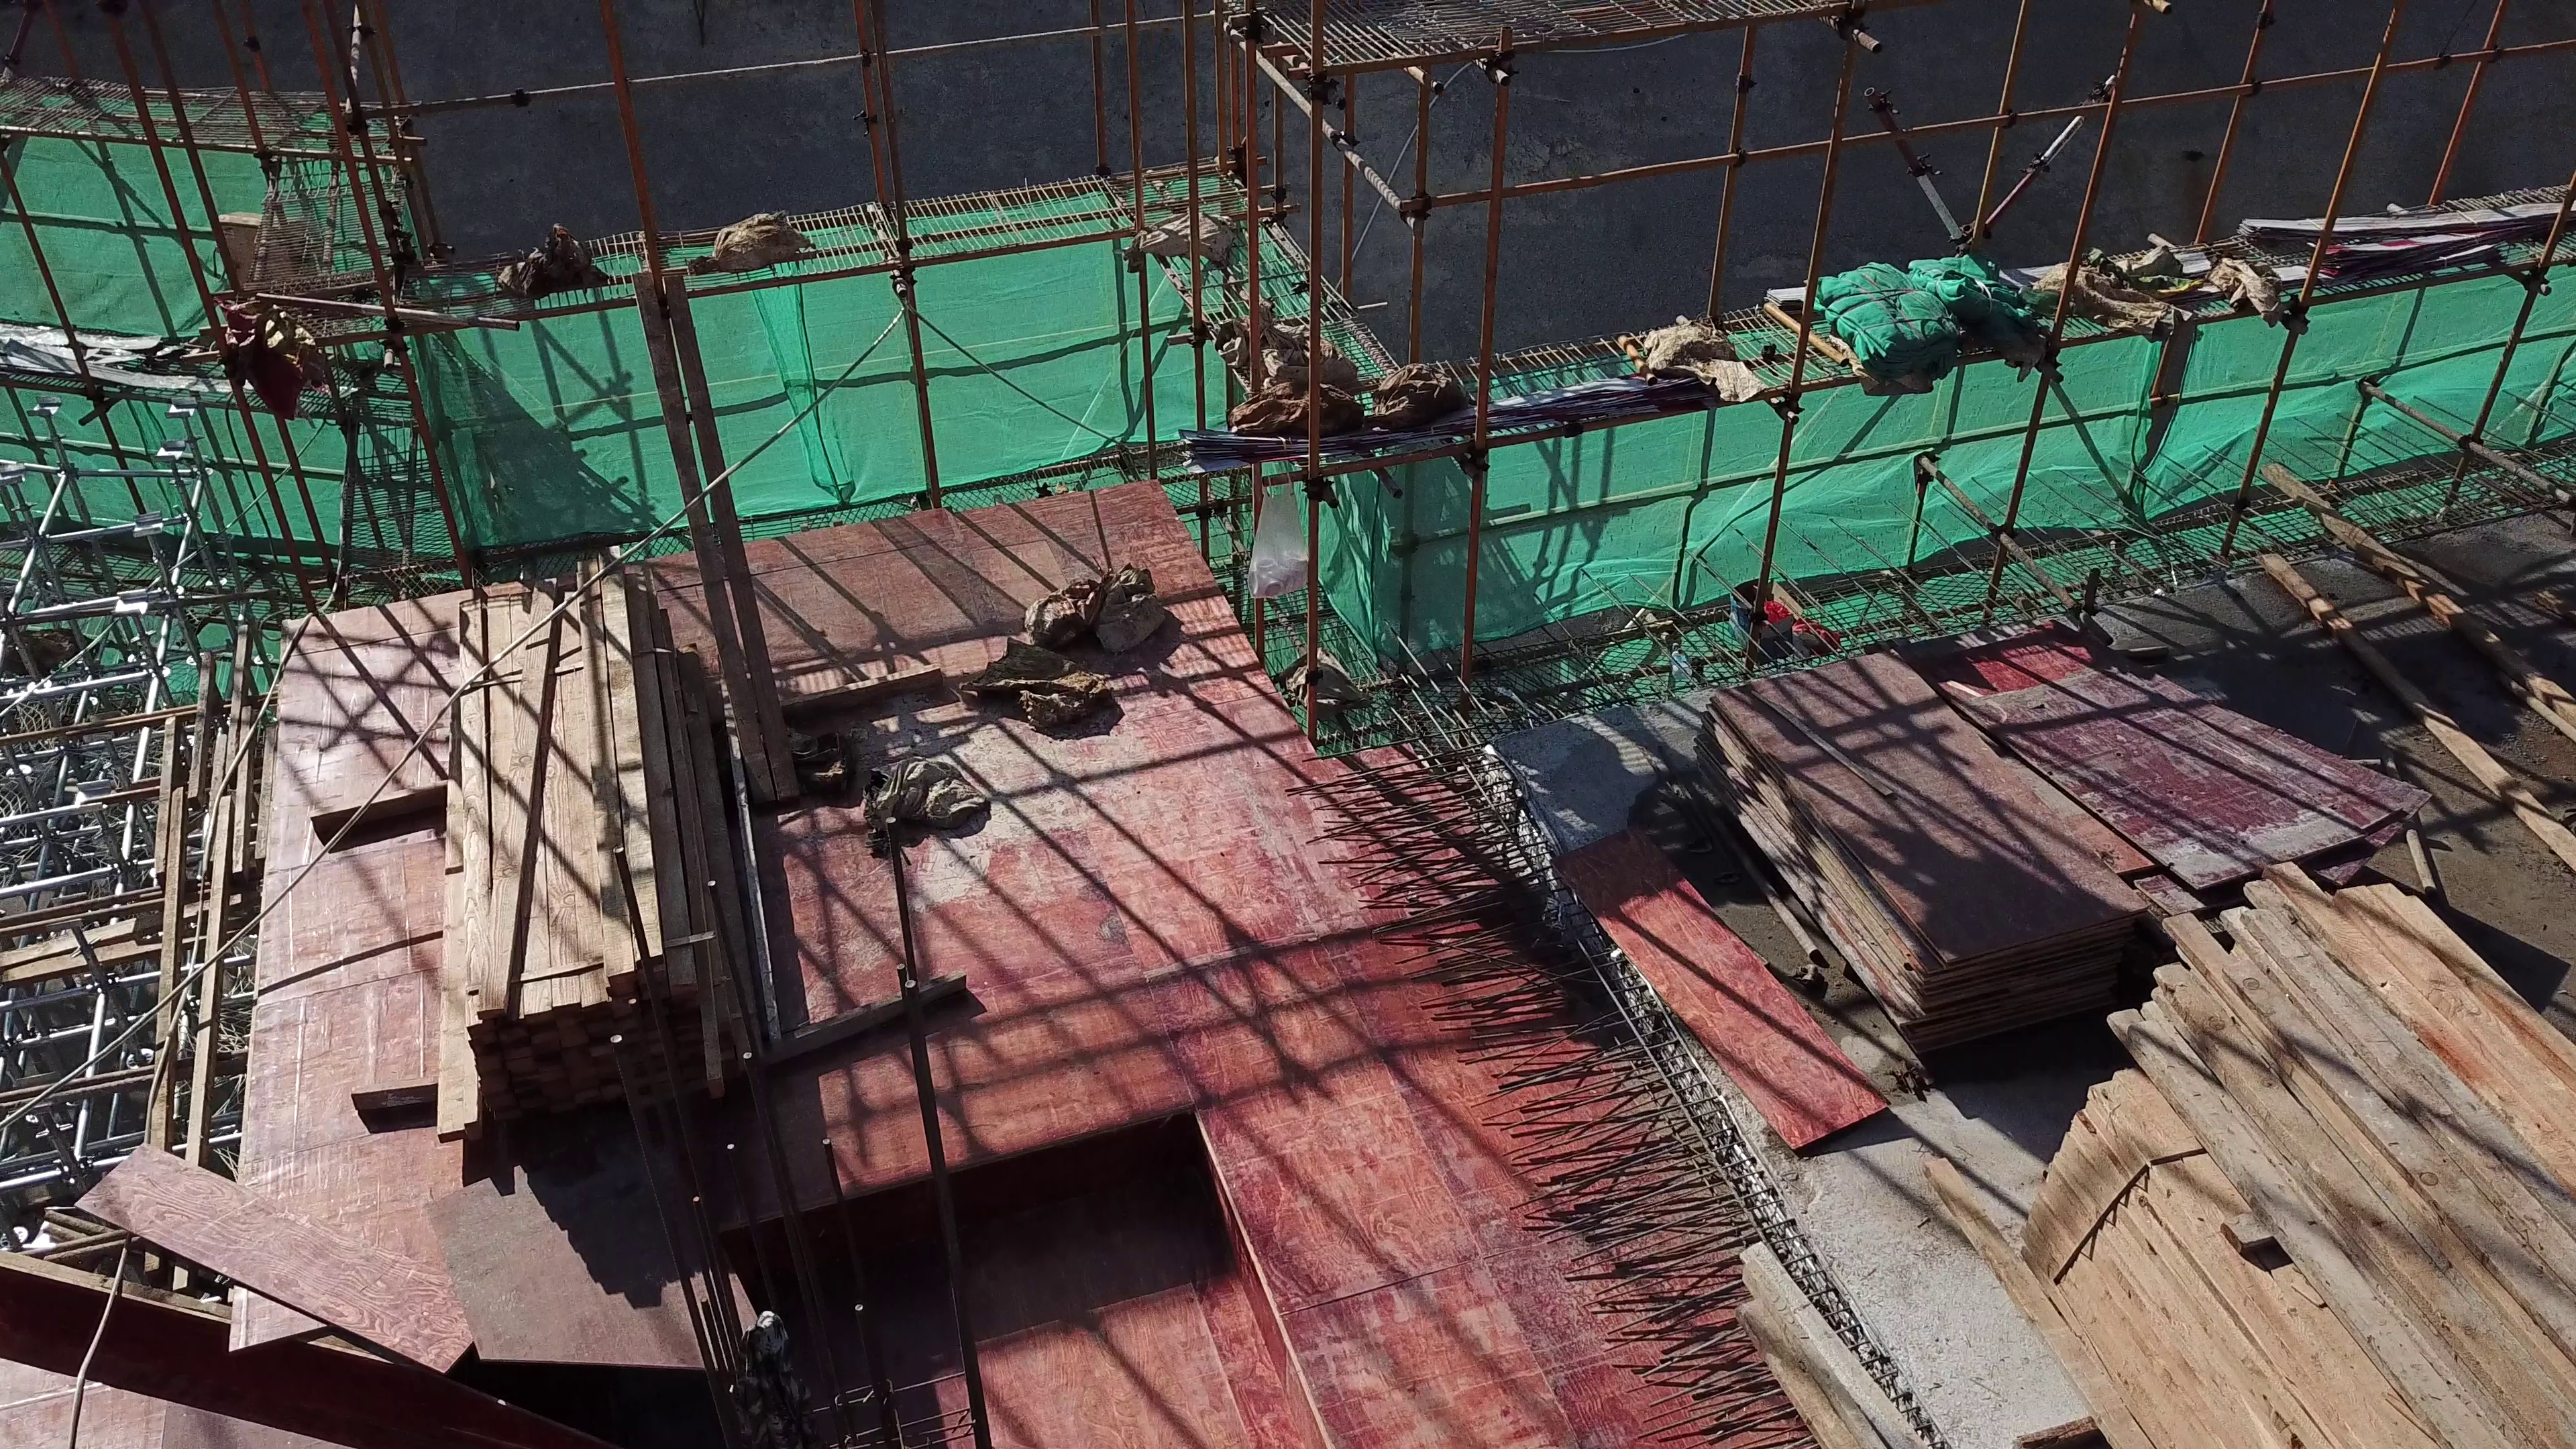board: (1695, 648, 2153, 1047), (1960, 672, 2431, 897)
wood: (2029, 863, 2576, 1445), (433, 550, 782, 1092)
